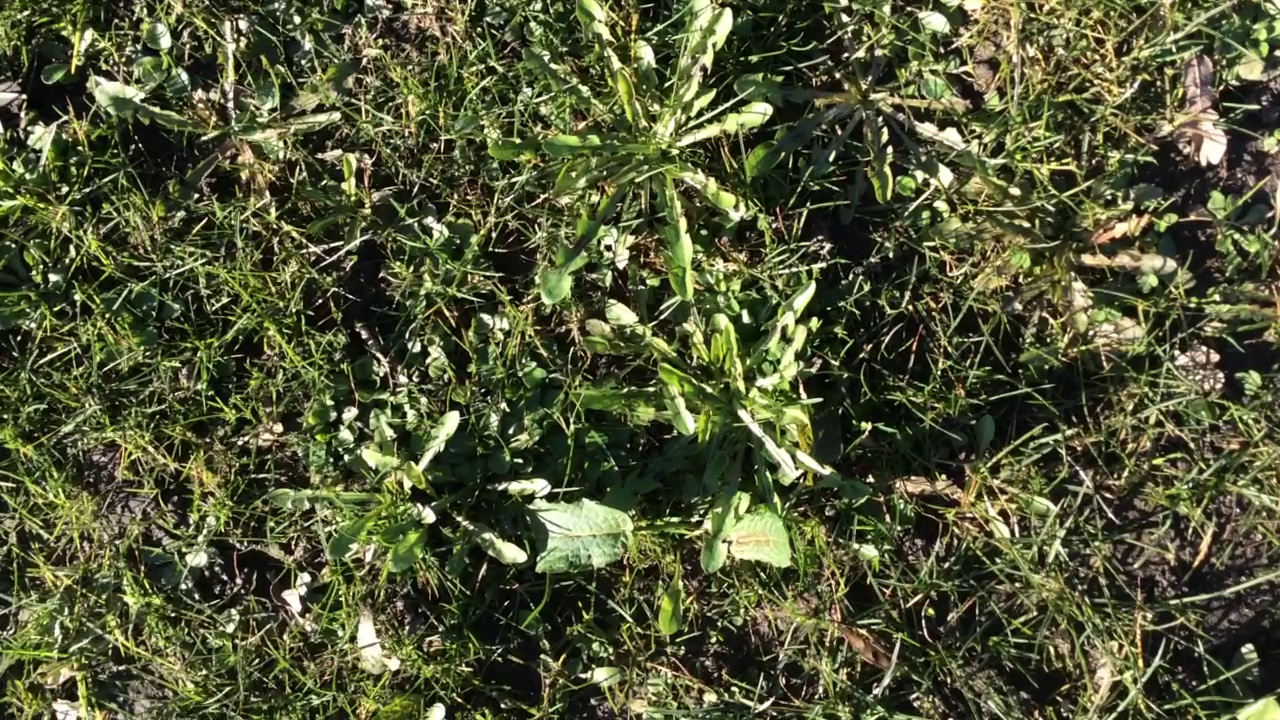rumex: (486, 500, 634, 578), (712, 515, 791, 565)
